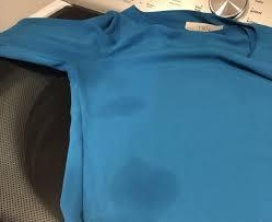oil: (107, 163, 179, 211), (91, 85, 144, 129)
